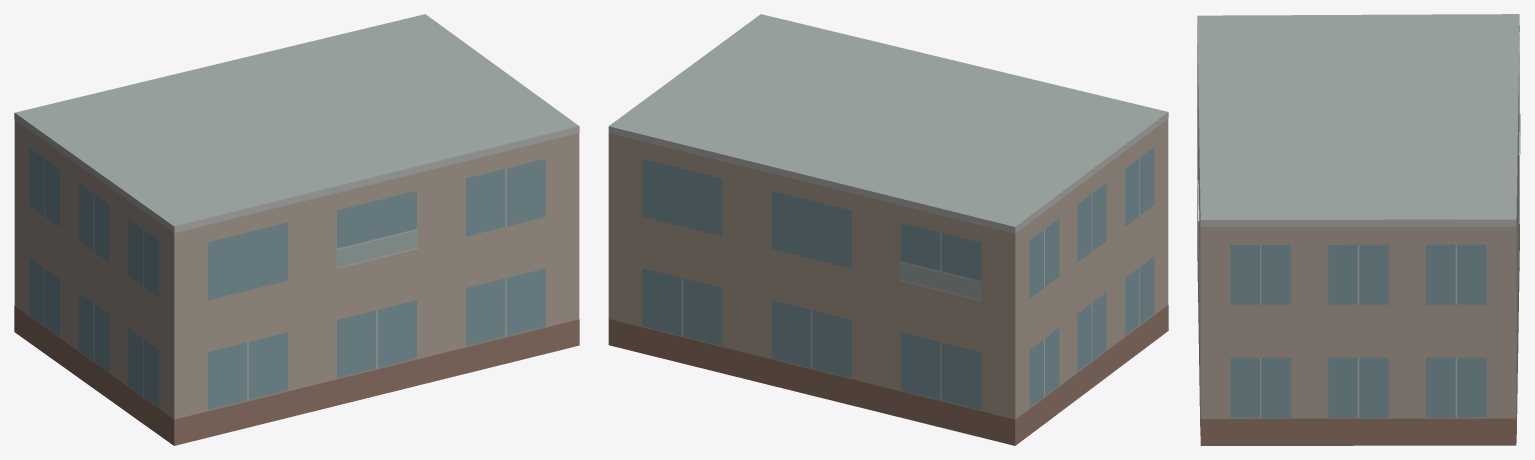
File: survey-upis-32835184.glb
3 views of the same model, side by side, from view 1: azimuth 30°, elevation 25°; view 2: azimuth 150°, elevation 25°; view 3: azimuth 270°, elevation 25° (orthographic). The views are drawn at different scales.
Parts seen in each view (by area): view 1: survey-upis-32835184.tmp; view 2: survey-upis-32835184.tmp; view 3: survey-upis-32835184.tmp.
Boxes of the visible parts, <box> form: survey-upis-32835184.tmp: <box>14,14,579,445</box>; survey-upis-32835184.tmp: <box>608,14,1168,445</box>; survey-upis-32835184.tmp: <box>1197,14,1520,445</box>.
Bounding box in the file's own units: 15.46 × 7.9 × 10.26.
